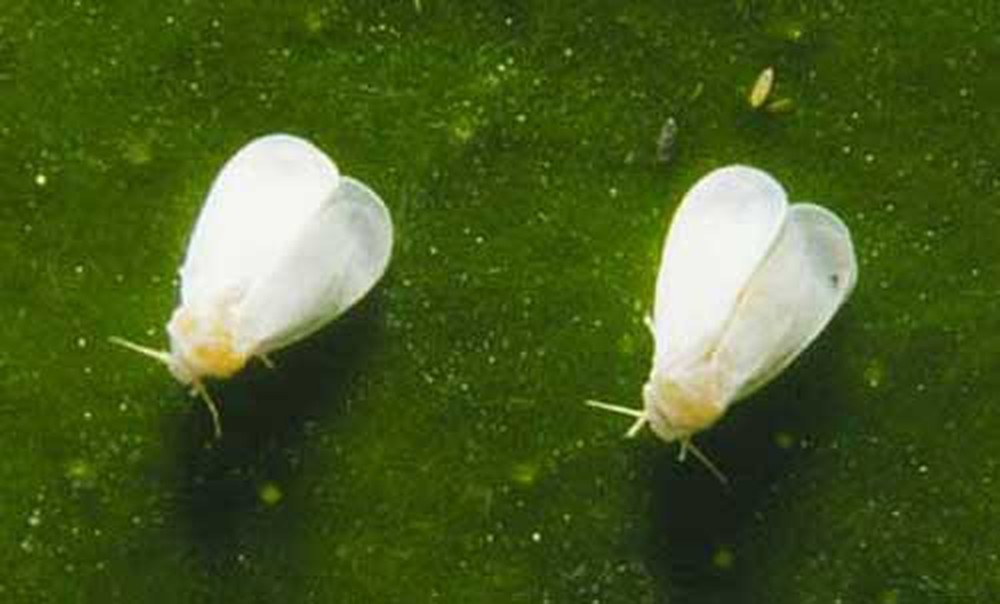Mosca Blanca: (113, 124, 415, 456), (599, 158, 870, 493)
